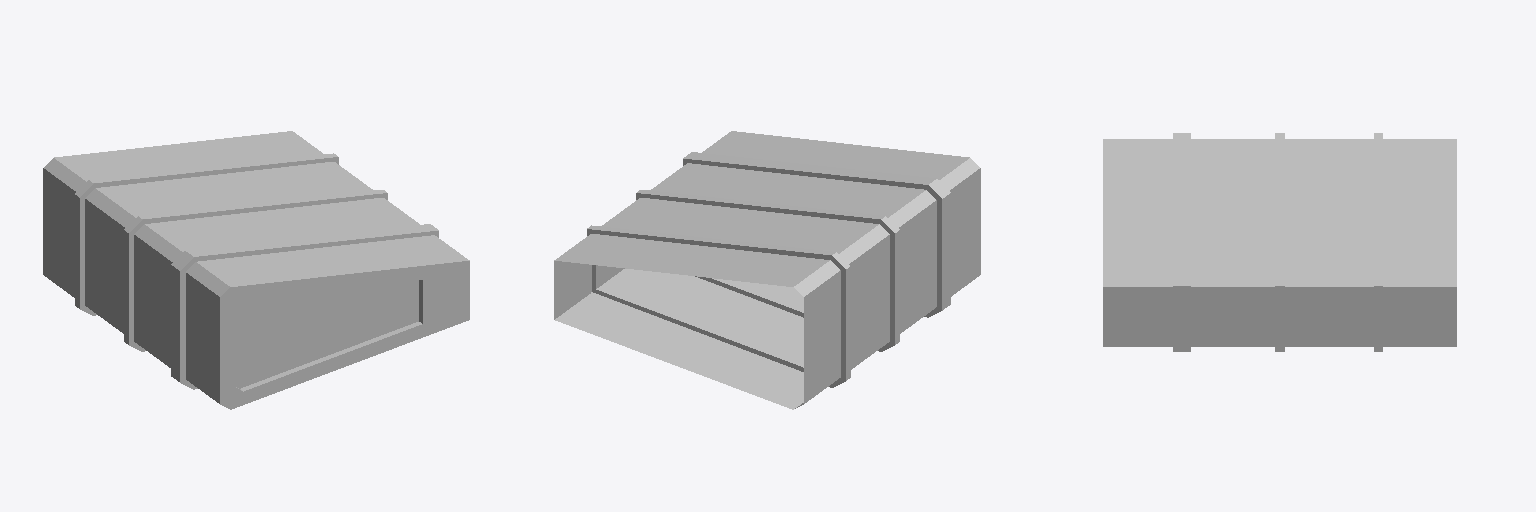
File: tower16.obj
The picture shows the model from 3 angles: view 1: azimuth 30°, elevation 25°; view 2: azimuth 150°, elevation 25°; view 3: azimuth 270°, elevation 25°; orthographic projection.
Visible parts, largest first — view 1: tower16; view 2: tower16; view 3: tower16.
Boxes of the visible parts, <box> form: tower16: <box>43,131,469,409</box>; tower16: <box>554,131,980,409</box>; tower16: <box>1103,133,1456,351</box>.
Size of the model in its own units: 47.33 by 23.18 by 56.02.